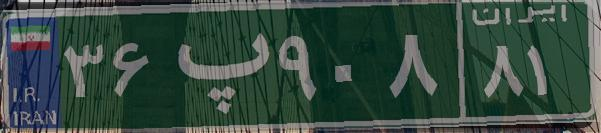0: (330, 28, 385, 110)
1: (525, 38, 570, 115)
3: (57, 26, 110, 107)
6: (110, 28, 158, 105)
8: (385, 28, 445, 110), (475, 38, 525, 113)
9: (273, 28, 330, 110)
پ: (158, 15, 273, 115)
